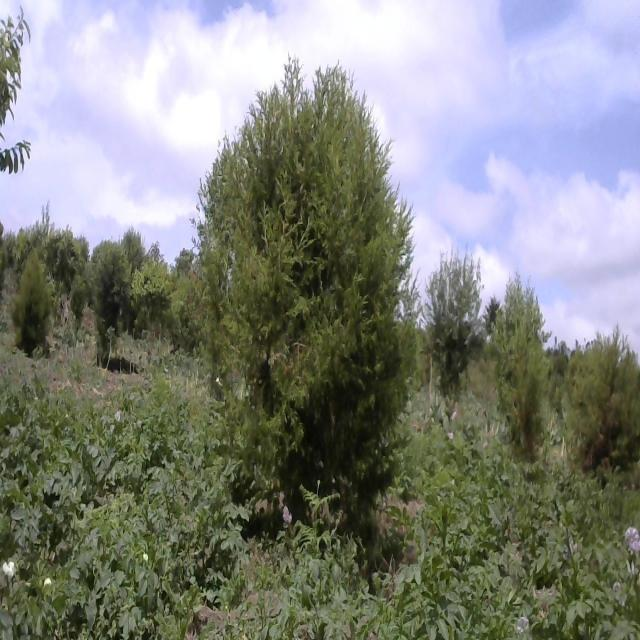Juniperus procesera: (201, 53, 410, 546), (562, 325, 640, 491), (426, 242, 486, 404), (503, 299, 553, 469), (87, 249, 134, 377), (16, 254, 55, 354)
